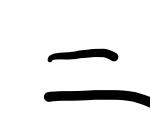eqv: (45, 49, 150, 107)
